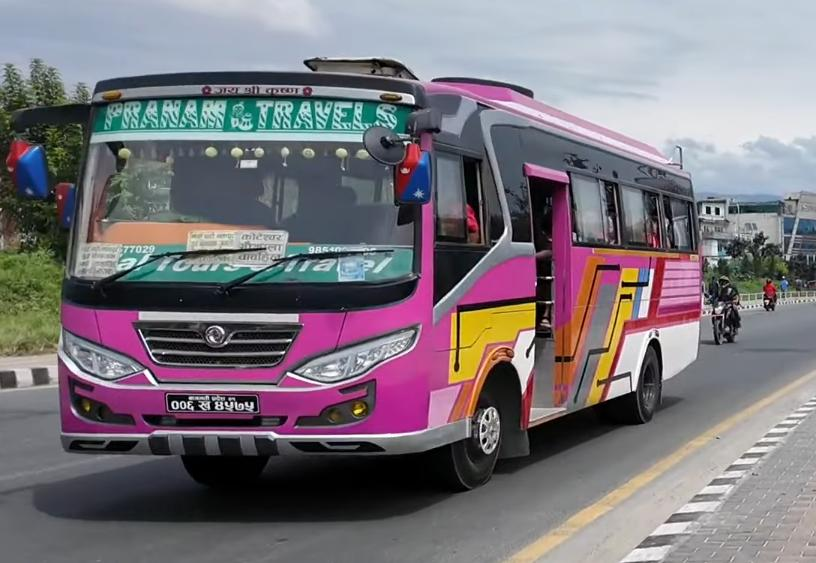bus: (2, 52, 708, 497)
